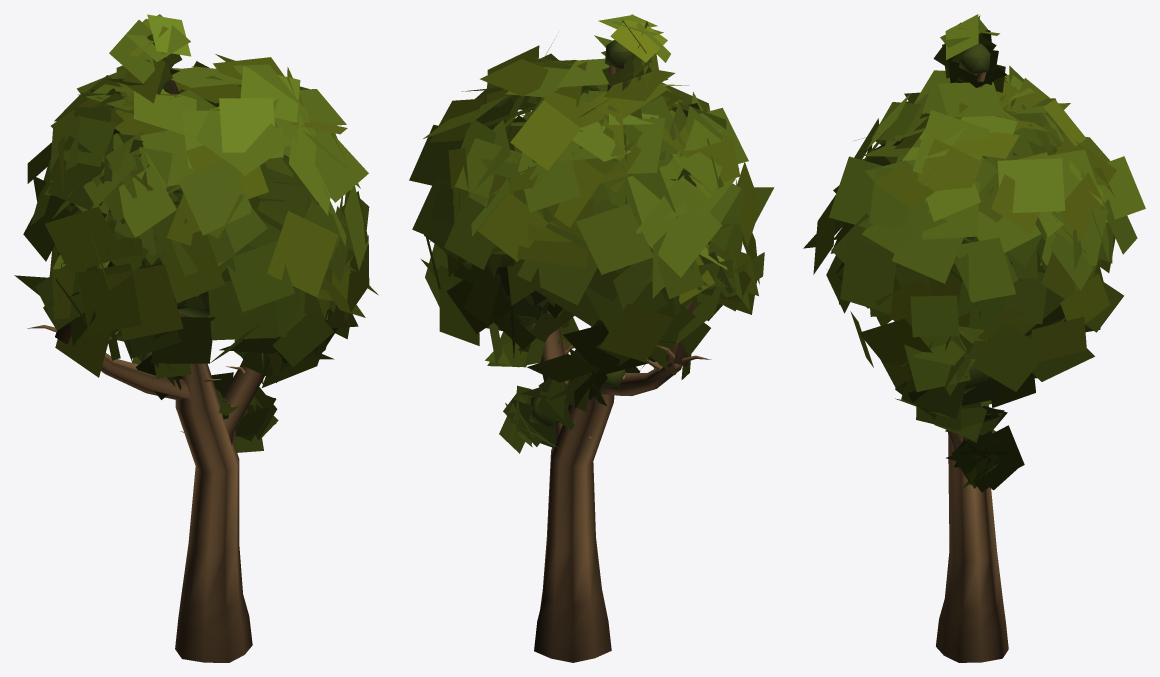
Rendered from tree-08.glb.
The picture shows the model from 3 angles, left to right: view 1: azimuth 30°, elevation 25°; view 2: azimuth 150°, elevation 25°; view 3: azimuth 270°, elevation 25°; orthographic projection. The views are drawn at different scales.
Visible parts, largest first — view 1: tree-08; view 2: tree-08; view 3: tree-08.
Part boxes in pixels (x1=…): tree-08: x1=14, y1=14, x2=378, y2=662; tree-08: x1=409, y1=14, x2=774, y2=662; tree-08: x1=803, y1=14, x2=1145, y2=662.
Bounding box in the file's own units: 3.33 × 6.47 × 3.32.
